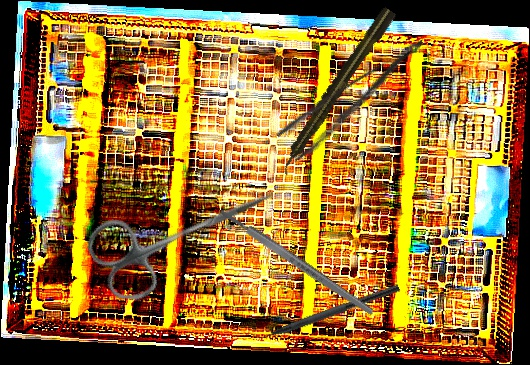Chopper: (246, 273, 401, 348)
Dressing Forceps: (273, 36, 442, 165)
Handpiece: (274, 5, 398, 177)
Iris Scissors: (80, 152, 290, 312)
Scalpel Handle: (217, 205, 376, 319)
